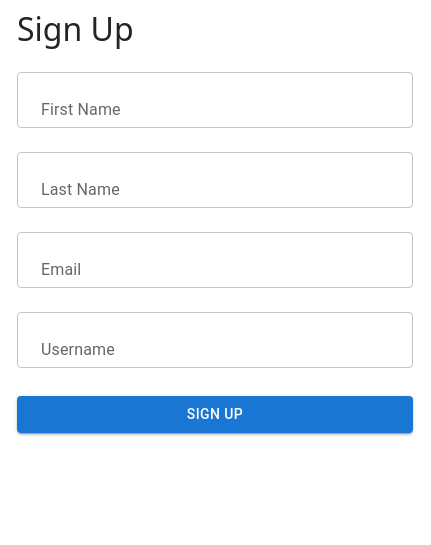
NewUserComponent › displays validation errors when the form is submitted with invalid data
Click the button with test id "sign-up-button" at (215, 415), box x1=17 y1=396 x2=413 y2=433
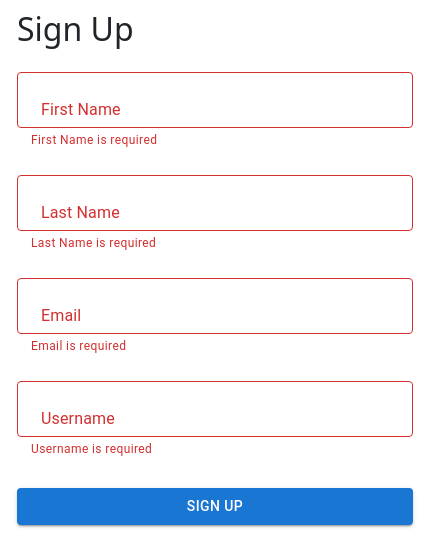
Expected: the text "First Name is required" is shown, x1=31 y1=133 x2=157 y2=147
Expected: the text "Last Name is required" is shown, x1=31 y1=236 x2=156 y2=250
Expected: the text "Email is required" is shown, x1=31 y1=339 x2=126 y2=353
